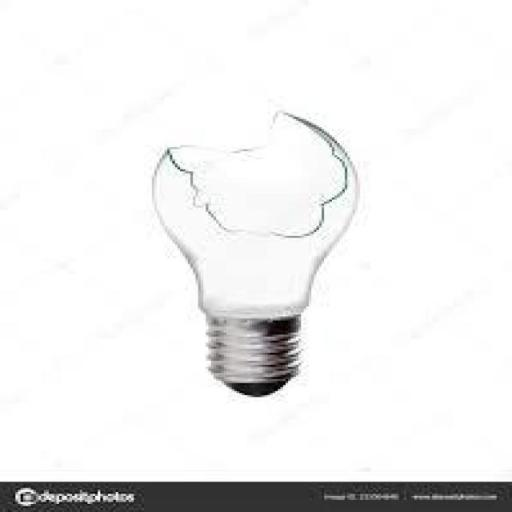glass: (138, 98, 392, 332)
